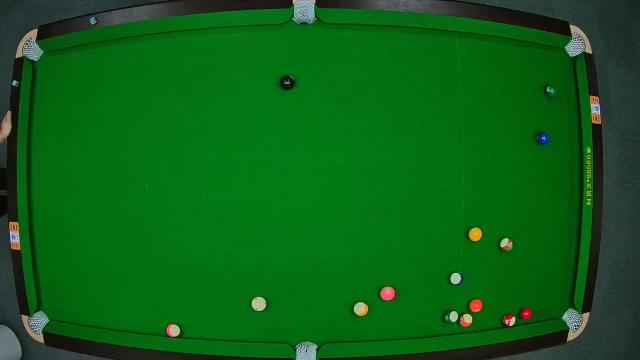bag1: (22, 38, 42, 63)
bag2: (292, 3, 316, 25)
bag3: (566, 34, 586, 58)
bag4: (28, 309, 48, 335)
bag5: (293, 342, 319, 360)
bag6: (561, 309, 585, 331)
ball0: (251, 296, 267, 312)
ball1: (467, 226, 485, 243)
ball10: (448, 271, 464, 285)
ball11: (502, 312, 516, 328)
ball12: (165, 323, 181, 336)
ball13: (458, 314, 474, 329)
ball14: (443, 308, 459, 324)
ball15: (500, 238, 516, 253)
ball2: (534, 130, 550, 146)
ball3: (520, 304, 532, 322)
ball4: (379, 286, 397, 302), (544, 84, 558, 98)
ball5: (469, 298, 485, 314)
ball8: (282, 74, 294, 90)
ball9: (354, 301, 368, 317)
